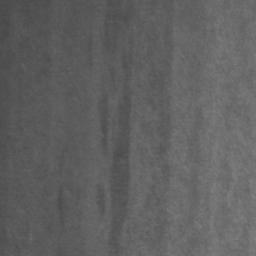Inclusion: (111, 95, 131, 234)
